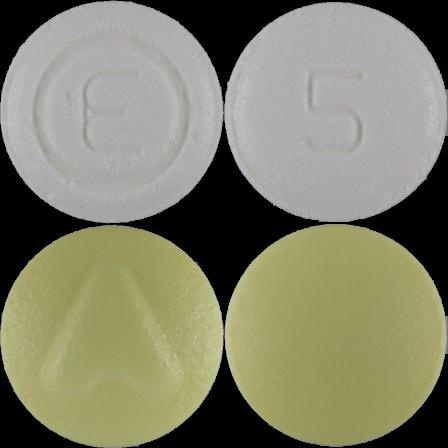68788-9670: (0, 0, 224, 224)
